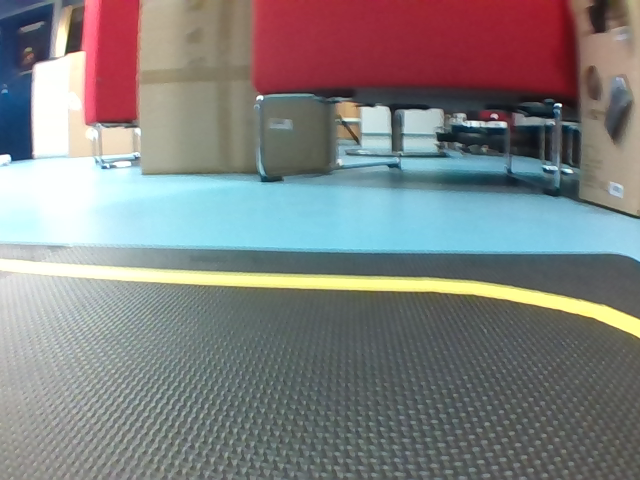stop: (44, 89, 73, 134)
